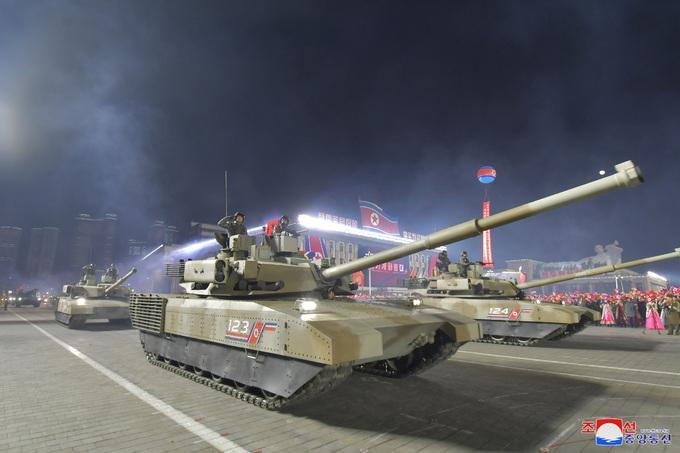MIL_IFV: (129, 203, 482, 412), (410, 251, 602, 347), (53, 262, 141, 332)
